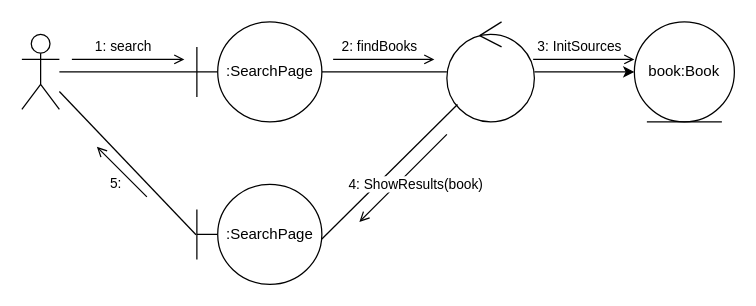
The diagram is 756 pixels wide and 306 high, and some of its shapes have lost their labels. The shapes that lost their labels are listed below. From the top down, each one's box as (x1, y1, x2, y2) in pixels, then its label:
(21, 33, 59, 109): :User
(446, 21, 534, 122): :Manager
